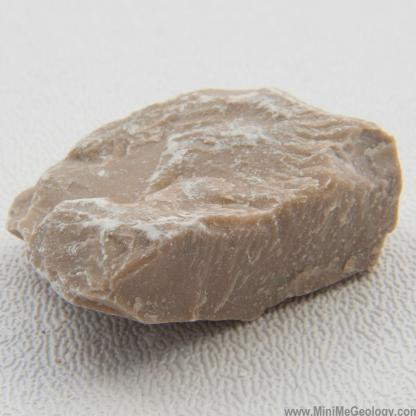Sedimentary_Limestone: (3, 94, 408, 325)
